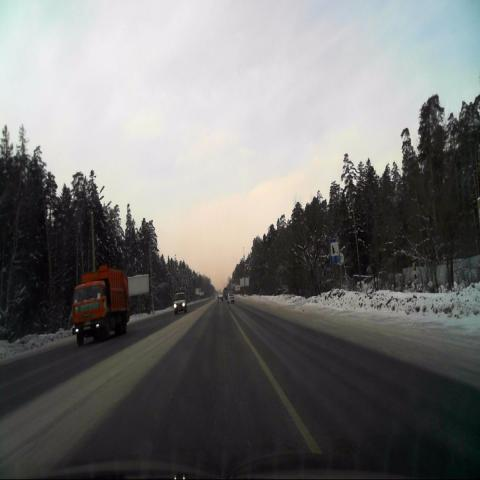7_11: (330, 237, 340, 264)
